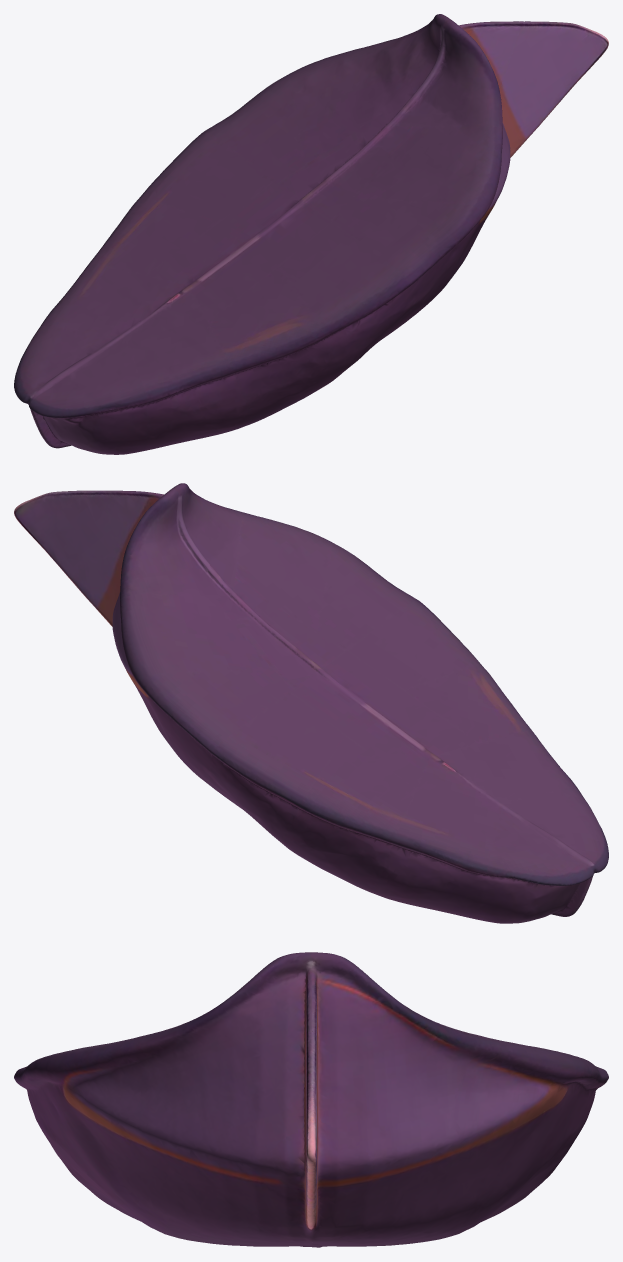
The model's file is 11_014_Mask_Plain.glb.
The picture shows the model from 3 angles, top to bottom: view 1: azimuth 30°, elevation 25°; view 2: azimuth 150°, elevation 25°; view 3: azimuth 270°, elevation 25°; orthographic projection. The views are drawn at different scales.
Parts seen in each view (by area): view 1: tripo_node_8b217a86-0cb8-4df9-8af5-85134916c43d; view 2: tripo_node_8b217a86-0cb8-4df9-8af5-85134916c43d; view 3: tripo_node_8b217a86-0cb8-4df9-8af5-85134916c43d.
Boxes of the visible parts, x1,y1,x2,y2 form: tripo_node_8b217a86-0cb8-4df9-8af5-85134916c43d: (14,14,608,454); tripo_node_8b217a86-0cb8-4df9-8af5-85134916c43d: (14,483,608,923); tripo_node_8b217a86-0cb8-4df9-8af5-85134916c43d: (14,952,608,1247).
Bounding box in the file's own units: 1 × 0.5471 × 0.6096.
Materials: 1 (1 with a texture image).
